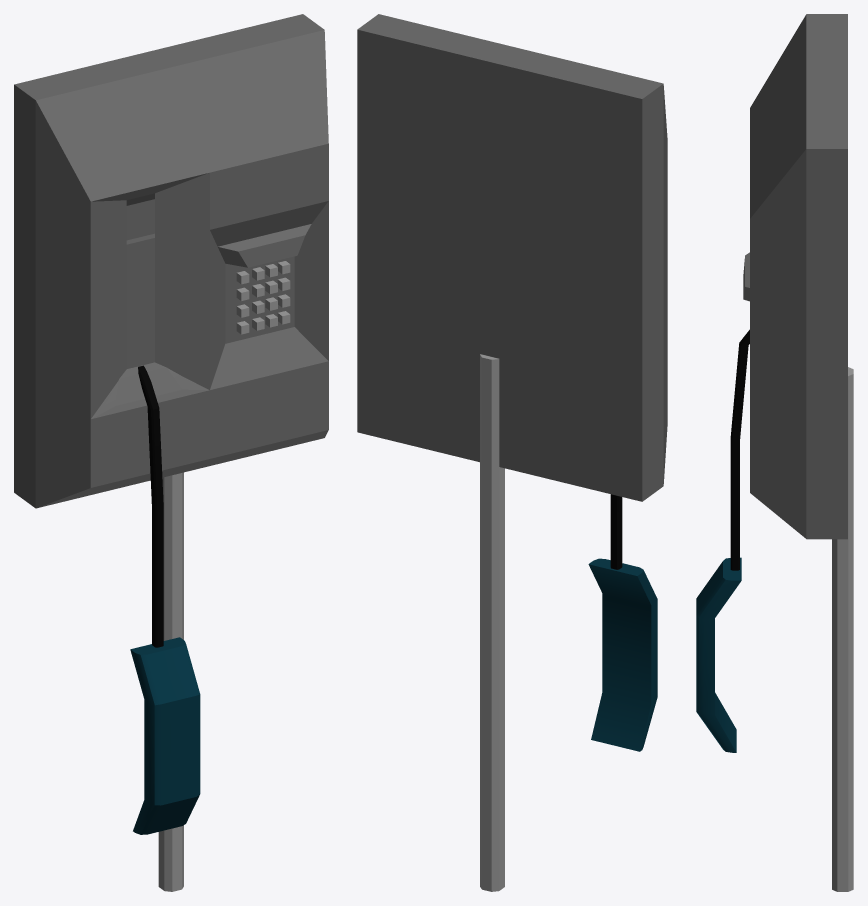
Rendered from Telefon_Kiosk_Broken.fbx.
3 renders of one model, left to right at view 1: azimuth 30°, elevation 25°; view 2: azimuth 150°, elevation 25°; view 3: azimuth 270°, elevation 25°, orthographic. The views are drawn at different scales.
Visible parts, largest first — view 1: Telefon_Kiosk_Broken; view 2: Telefon_Kiosk_Broken; view 3: Telefon_Kiosk_Broken.
Boxes of the visible parts, x1,y1,x2,y2 form: Telefon_Kiosk_Broken: (14,14,328,891); Telefon_Kiosk_Broken: (357,14,667,891); Telefon_Kiosk_Broken: (696,14,853,891).
Size of the model in its own units: 1.59 by 4.39 by 0.7822.
